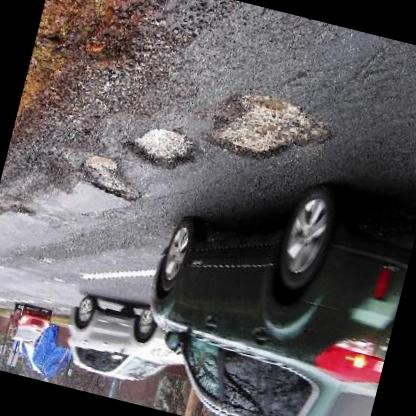pothole: (199, 79, 339, 182), (122, 118, 204, 180), (72, 150, 150, 207)
